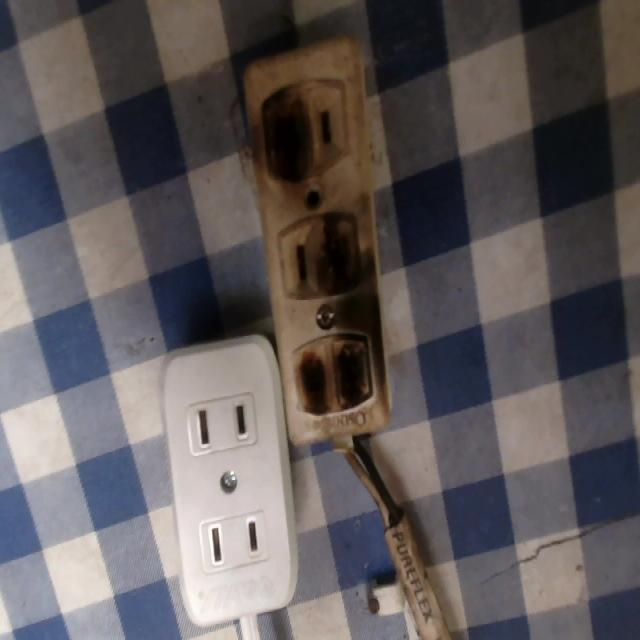-: (294, 336, 385, 413), (262, 84, 318, 189), (315, 220, 376, 288)
